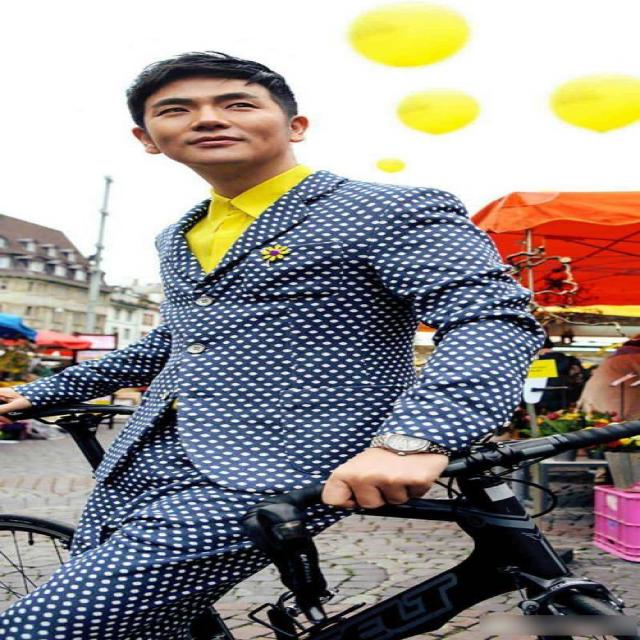Manusia: (12, 40, 543, 640)
